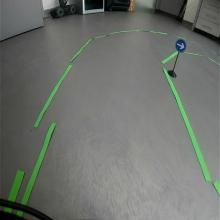right: (175, 38, 187, 53)
